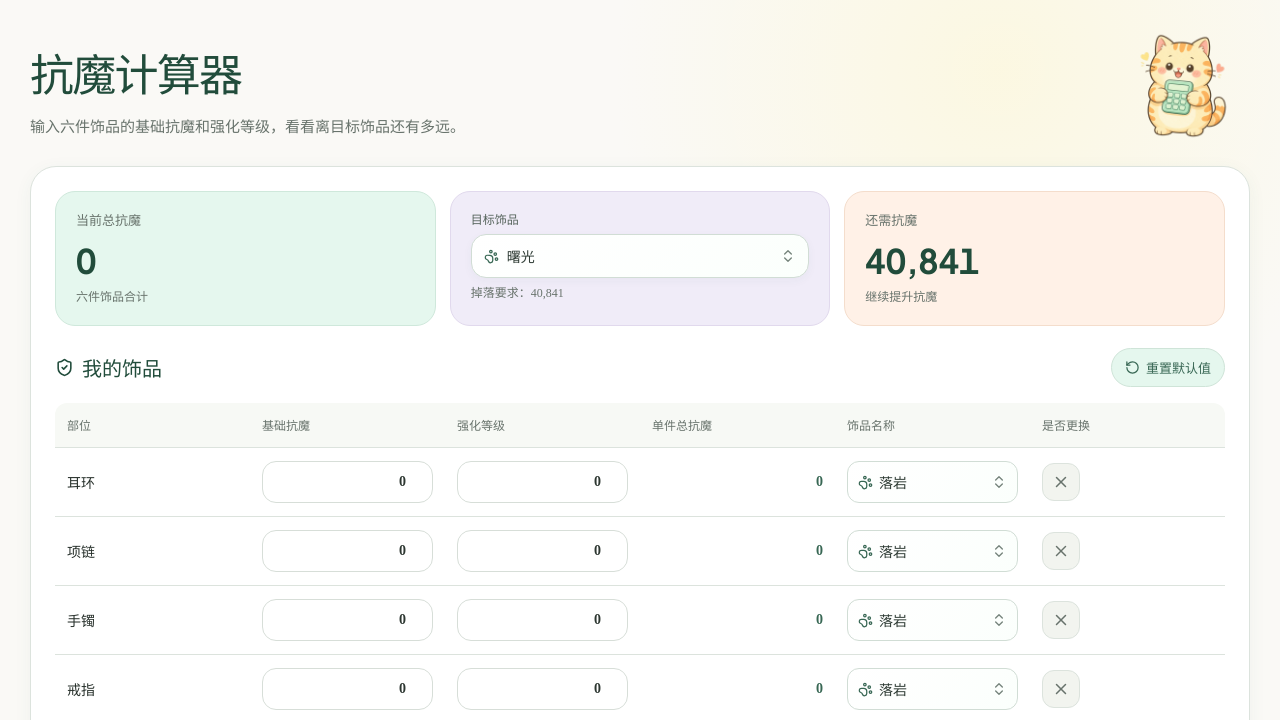
Test case: 抗魔计算器界面 › 达到门槛后显示已达标
Replace the text in the 1st number field named "耳环基础抗魔" with "40841" at (348, 482), box [263,462,432,502]
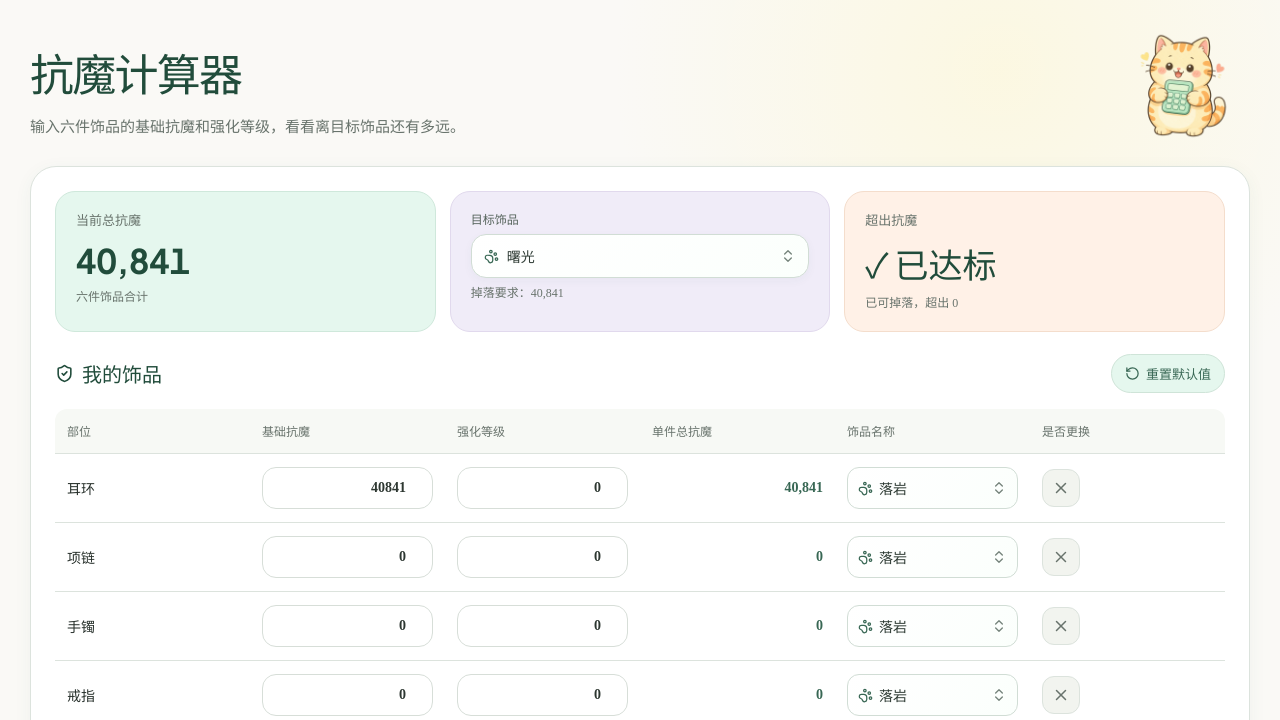
Now the text "✓ 已达标" is shown, box [865,243,997,286]
Now the text "已可掉落，超出 0" is shown, box [865,296,958,310]
